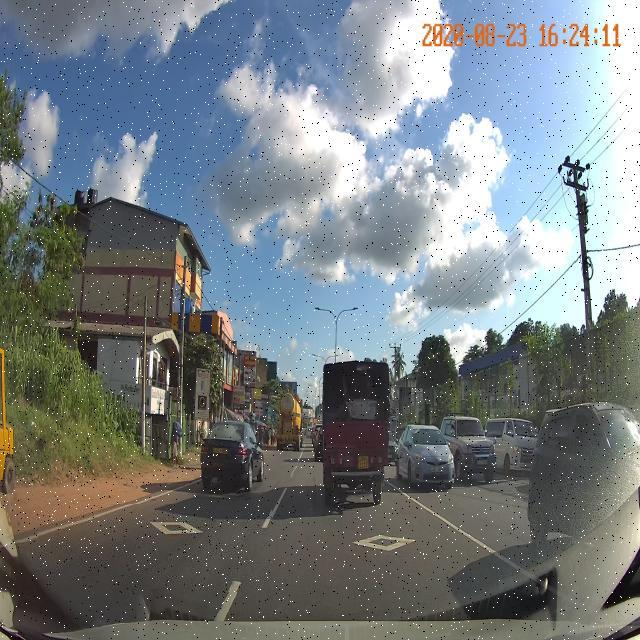diamond: (38, 505, 272, 592), (241, 517, 525, 566)
